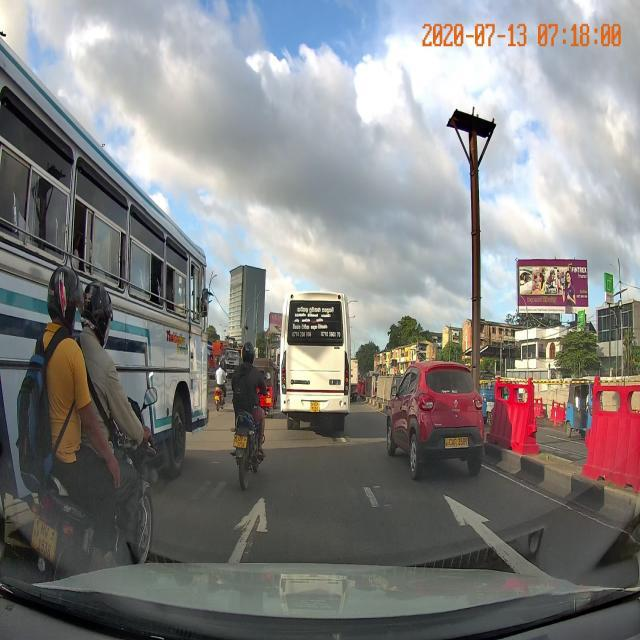forward: (151, 490, 401, 564)
